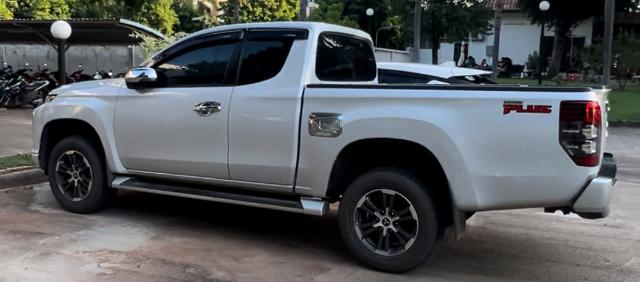pickup-truck: (29, 18, 619, 277)
